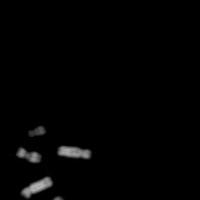chromosome: (22, 177, 52, 197), (57, 145, 90, 158), (17, 148, 40, 162), (28, 126, 46, 137), (42, 196, 63, 200)
